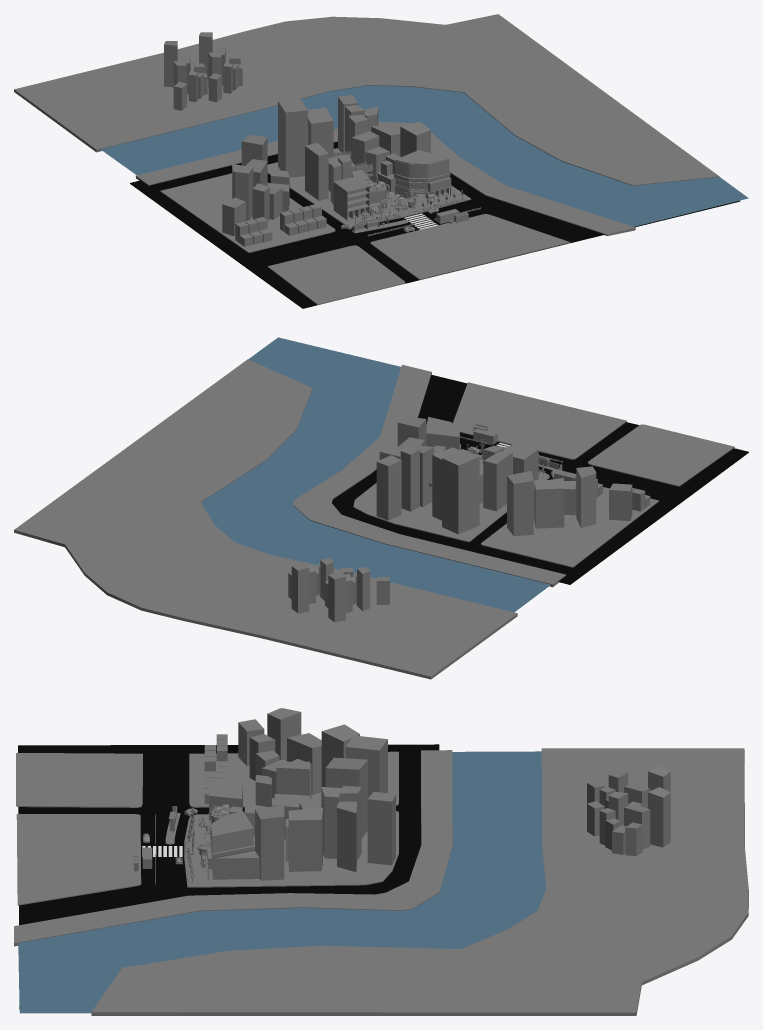
Rendered from 还没摆好东西看一下比例初版规模1.fbx.
3 renders of one model, top to bottom at view 1: azimuth 30°, elevation 25°; view 2: azimuth 150°, elevation 25°; view 3: azimuth 270°, elevation 25°, orthographic. The views are drawn at different scales.
Visible parts, largest first — view 1: Shape034, 湖水, 地面001, Shape036, Shape033, Shape042, Object183, Shape035, Object201, Object031, Object204, Object186 (+11 smaller); view 2: Shape034, 湖水, 地面001, Shape033, Shape036, Object183, Shape042, Shape035, Object031, Object201, Object204, Object186 (+8 smaller); view 3: Shape034, 湖水, 地面001, Shape033, Shape036, Shape042, Object183, Object186, Object201, Shape035, Object025, Object017 (+14 smaller).
Part boxes in pixels (x1,y1,x2,y2): Shape034: (14, 14, 719, 185); 湖水: (101, 85, 748, 226); 地面001: (130, 141, 740, 308); Shape036: (370, 214, 570, 279); Shape033: (135, 121, 635, 235); Shape042: (267, 245, 405, 304); Object183: (222, 135, 289, 236); Shape035: (160, 173, 335, 252); Object201: (267, 148, 471, 226); Object031: (278, 98, 307, 177); Object204: (164, 41, 207, 110); Object186: (199, 32, 242, 102); Shape034: (14, 359, 517, 679); 湖水: (201, 337, 550, 612); 地面001: (332, 374, 748, 584); Shape033: (293, 364, 566, 587); Shape036: (452, 382, 626, 459); Object183: (507, 466, 632, 536); Shape042: (588, 424, 734, 486); Shape035: (481, 487, 659, 567); Object031: (442, 449, 479, 534); Object201: (353, 455, 549, 542); Object204: (325, 567, 389, 622); Object186: (288, 558, 353, 613); Shape034: (91, 748, 748, 1015); 湖水: (18, 751, 545, 1013); 地面001: (18, 744, 439, 1008); Shape033: (14, 750, 452, 946); Shape036: (16, 814, 141, 905); Shape042: (16, 753, 142, 807); Object183: (238, 708, 359, 798); Object186: (587, 787, 670, 856); Object201: (184, 811, 398, 887); Shape035: (189, 751, 398, 807); Object025: (288, 807, 322, 871); Object017: (255, 805, 284, 880).
Size of the model in its own units: 1574 by 1816 by 229.
